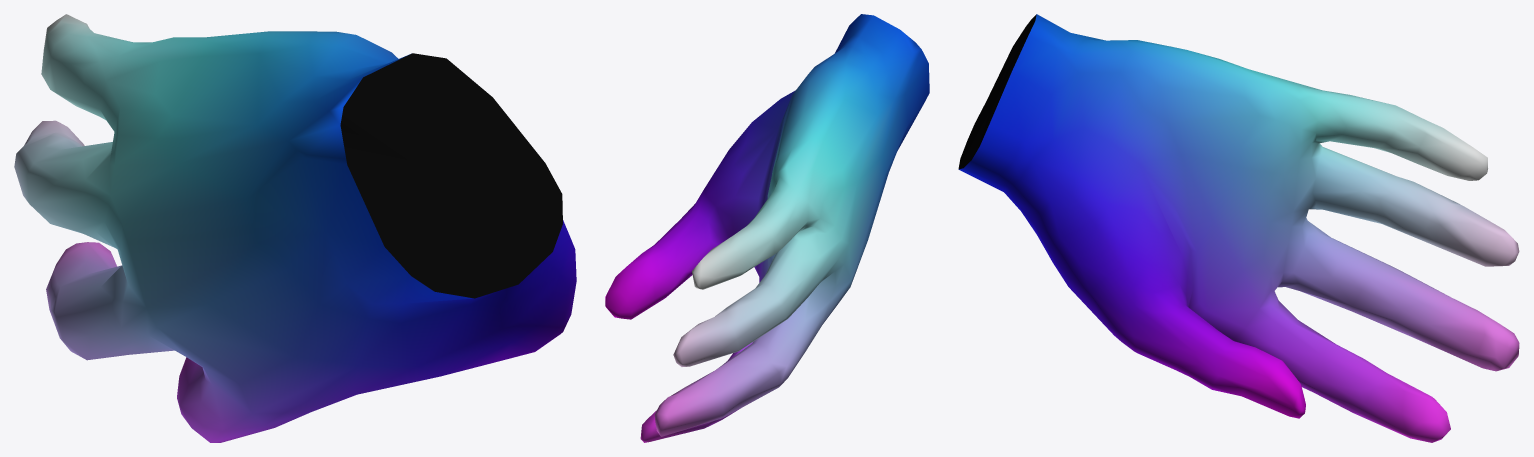
The model's file is RightHand-Holding-Flashlight.fbx.
The picture shows the model from 3 angles, left to right: view 1: azimuth 30°, elevation 25°; view 2: azimuth 150°, elevation 25°; view 3: azimuth 270°, elevation 25°; orthographic projection. The views are drawn at different scales.
Parts seen in each view (by area): view 1: hands:Rhand; view 2: hands:Rhand; view 3: hands:Rhand.
Part boxes in pixels (x1,y1,x2,y2): hands:Rhand: (14, 14, 576, 442); hands:Rhand: (605, 14, 929, 442); hands:Rhand: (958, 14, 1519, 442).
Size of the model in its own units: 10.39 by 13.9 by 18.36.
